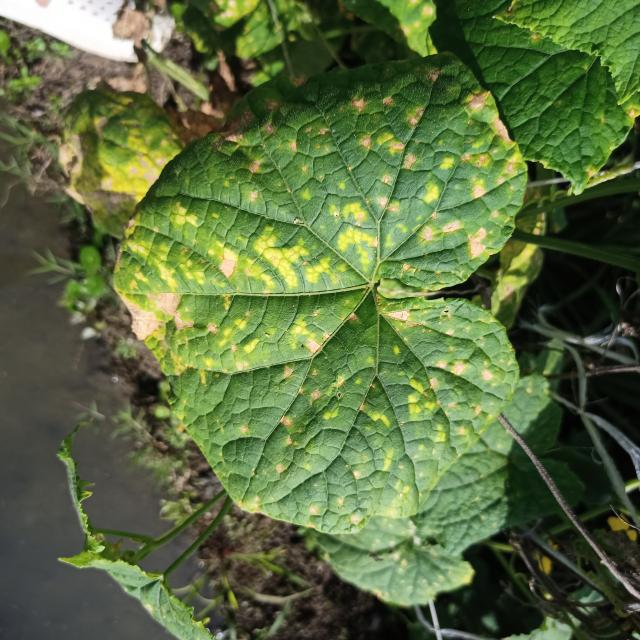disease_cucumber: (128, 69, 524, 508)
